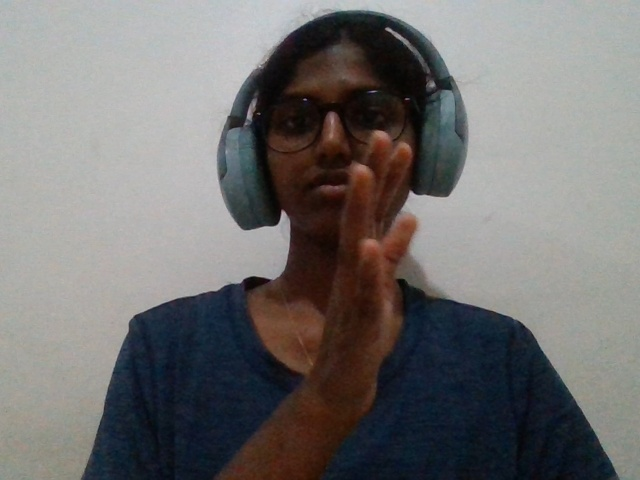Bye: (292, 113, 434, 446)
